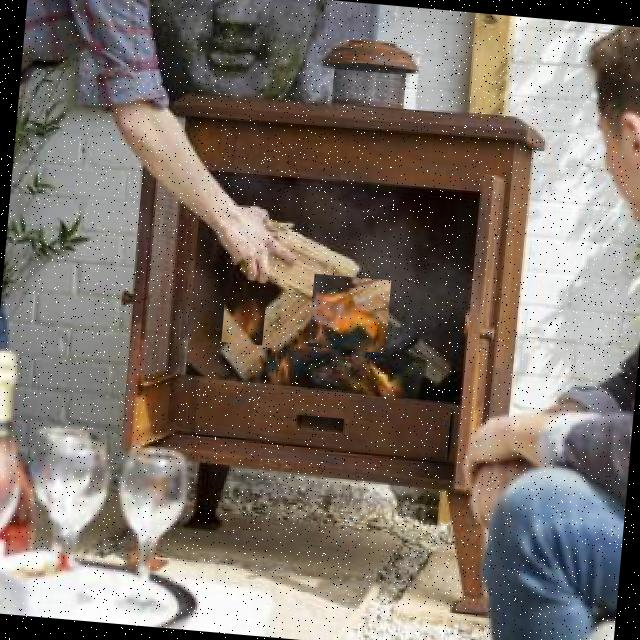fire: (308, 274, 390, 352), (220, 296, 266, 345), (366, 348, 408, 398)
